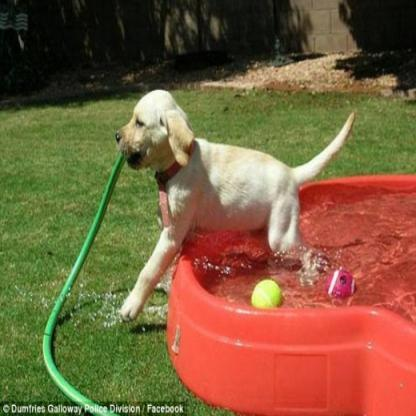dog: (114, 88, 357, 324)
